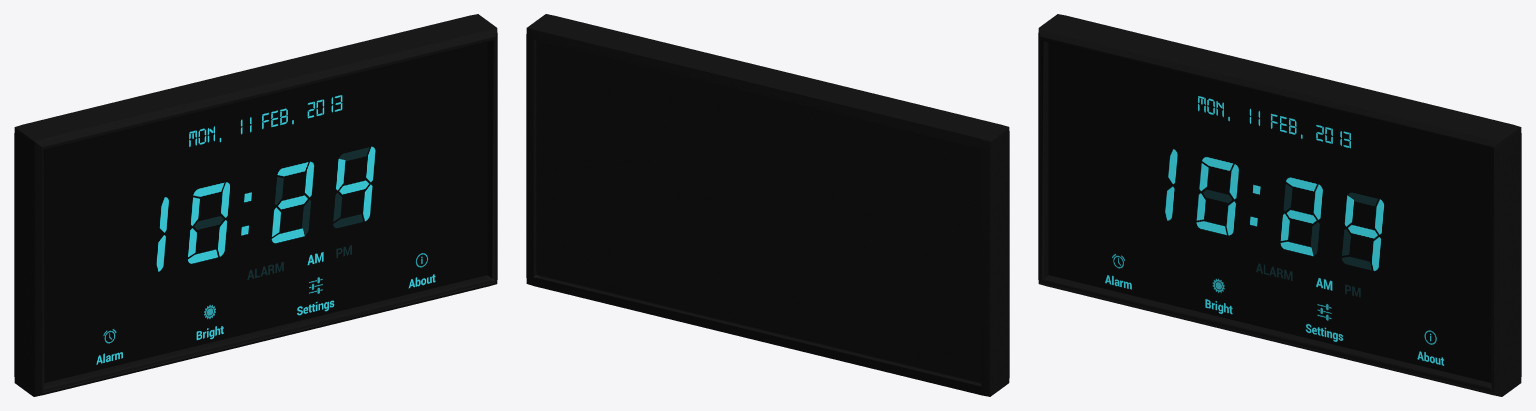
Rendered from digital_clock.glb.
The picture shows the model from 3 angles, left to right: view 1: azimuth 30°, elevation 25°; view 2: azimuth 150°, elevation 25°; view 3: azimuth 330°, elevation 25°; orthographic projection.
Visible parts, largest first — view 1: Digital_Clock; view 2: Digital_Clock; view 3: Digital_Clock.
Part boxes in pixels (x1,y1,x2,y2): Digital_Clock: (14, 14, 497, 396); Digital_Clock: (526, 14, 1009, 396); Digital_Clock: (1038, 14, 1521, 396).
Bounding box in the file's own units: 4.08 × 2.16 × 0.3589.
Materials: 2 (2 with a texture image).
